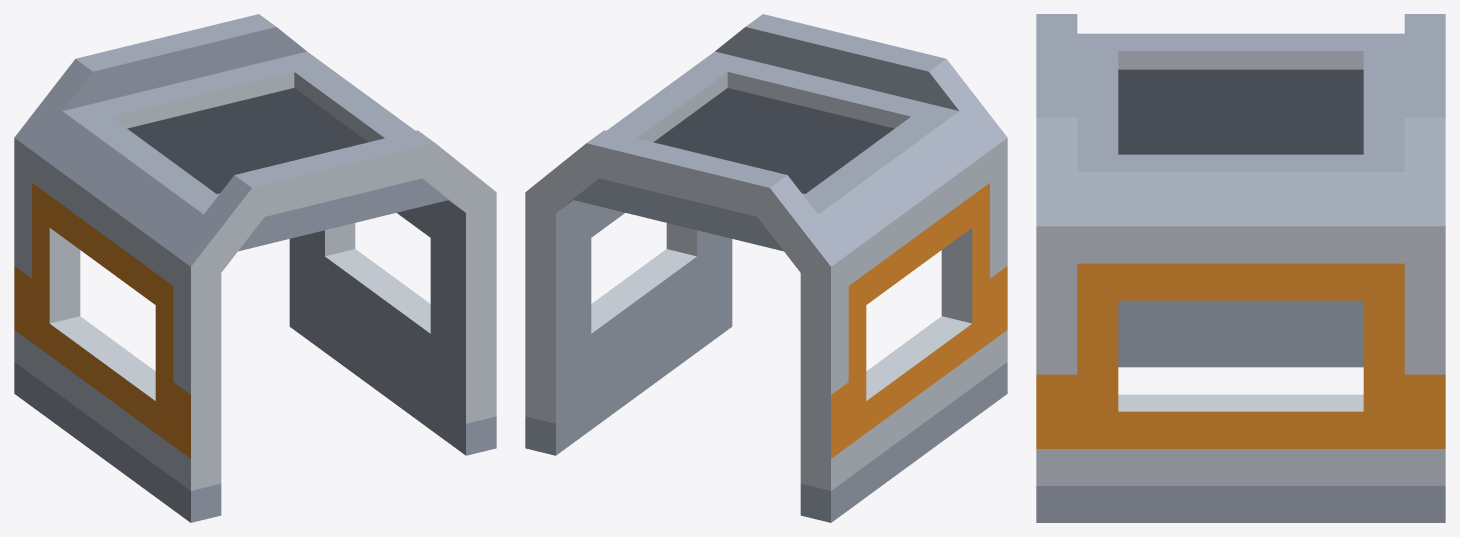
File: corridor_window.dae
3 renders of one model, left to right at view 1: azimuth 30°, elevation 25°; view 2: azimuth 150°, elevation 25°; view 3: azimuth 270°, elevation 25°, orthographic. The views are drawn at different scales.
Parts seen in each view (by area): view 1: corridor_window; view 2: corridor_window; view 3: corridor_window.
Part boxes in pixels (<box>): corridor_window: <box>14,14,496,522</box>; corridor_window: <box>525,14,1007,522</box>; corridor_window: <box>1036,14,1445,522</box>.
Bounding box in the file's own units: 1 × 1 × 1.
